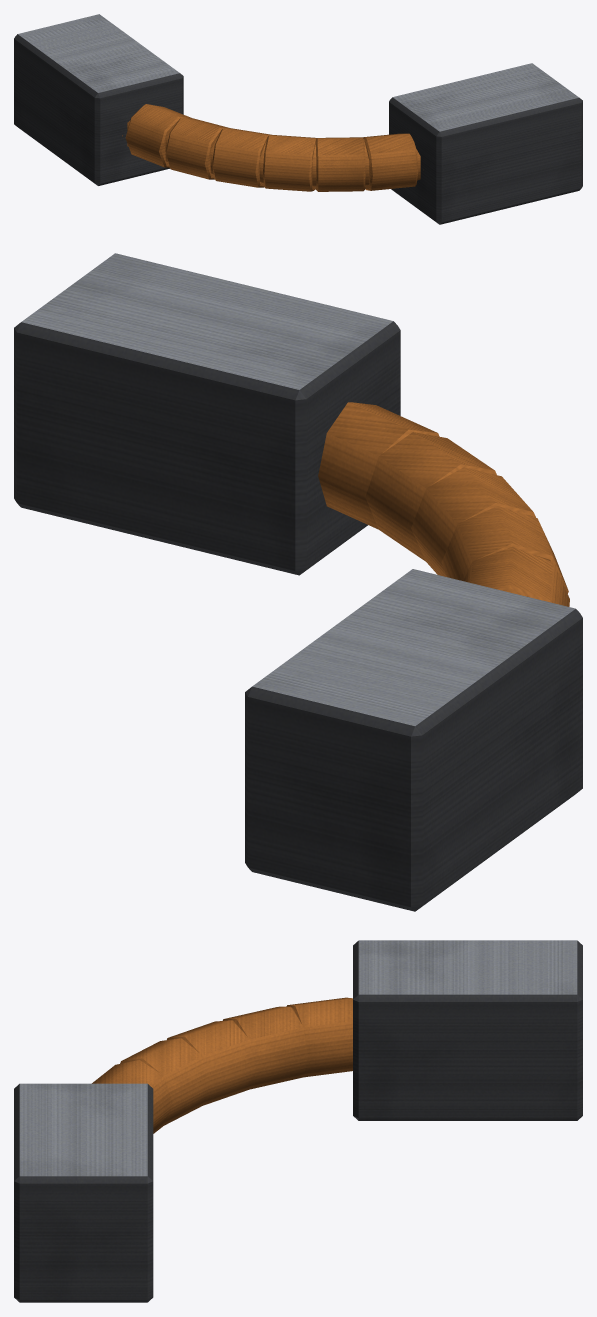
The model's file is R4C_ROD_ARC_SHORT_LOD1.glb.
The picture shows the model from 3 angles, top to bottom: view 1: azimuth 30°, elevation 25°; view 2: azimuth 150°, elevation 25°; view 3: azimuth 270°, elevation 25°; orthographic projection. The views are drawn at different scales.
Visible parts, largest first — view 1: R4C_ROD_ARC_SHORT_LOD1; view 2: R4C_ROD_ARC_SHORT_LOD1; view 3: R4C_ROD_ARC_SHORT_LOD1.
Part boxes in pixels (x1,y1,x2,y2): R4C_ROD_ARC_SHORT_LOD1: (14,14,582,224); R4C_ROD_ARC_SHORT_LOD1: (14,253,582,911); R4C_ROD_ARC_SHORT_LOD1: (14,940,582,1302).
Bounding box in the file's own units: 0.923 × 0.226 × 0.923.
Materials: 3 (3 with a texture image).
